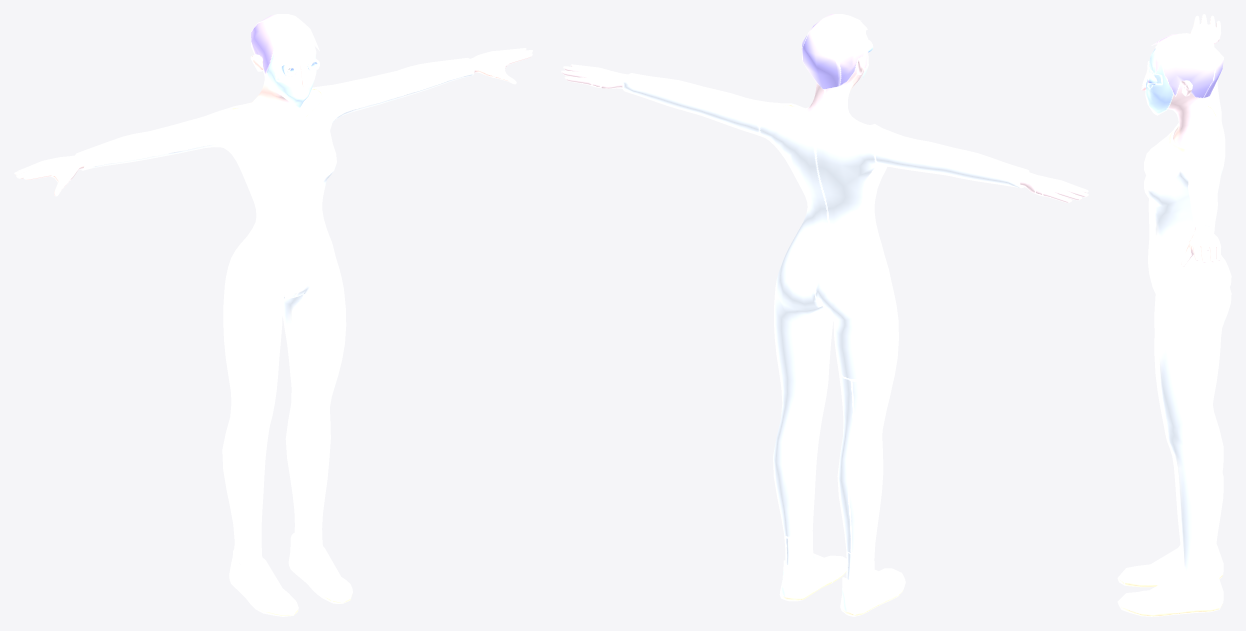
The model's file is Girl_v2.gltf.
3 views of the same model, side by side, from view 1: azimuth 30°, elevation 25°; view 2: azimuth 150°, elevation 25°; view 3: azimuth 270°, elevation 25° (orthographic). The views are drawn at different scales.
Visible parts, largest first — view 1: GEO.3; view 2: GEO.3; view 3: GEO.3.
Part boxes in pixels (x1=…): GEO.3: x1=14, y1=14, x2=532, y2=616; GEO.3: x1=561, y1=14, x2=1088, y2=616; GEO.3: x1=1117, y1=14, x2=1231, y2=616.
Size of the model in its own units: 123 by 130 by 23.94.
